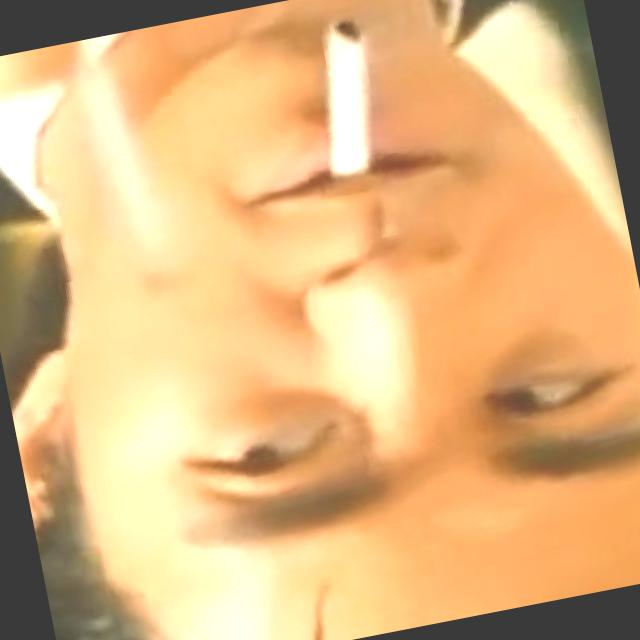smoke: (293, 0, 404, 205)
